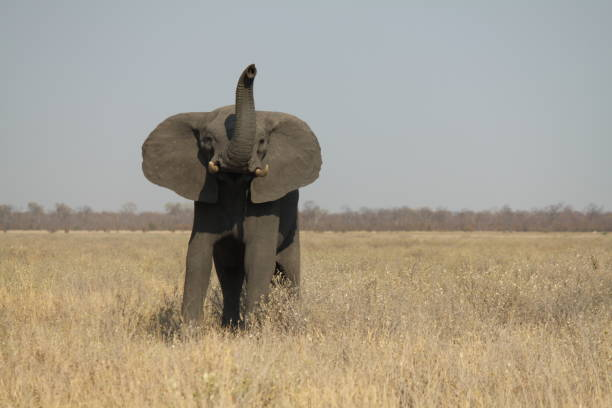africanelephant: (179, 92, 293, 203)
